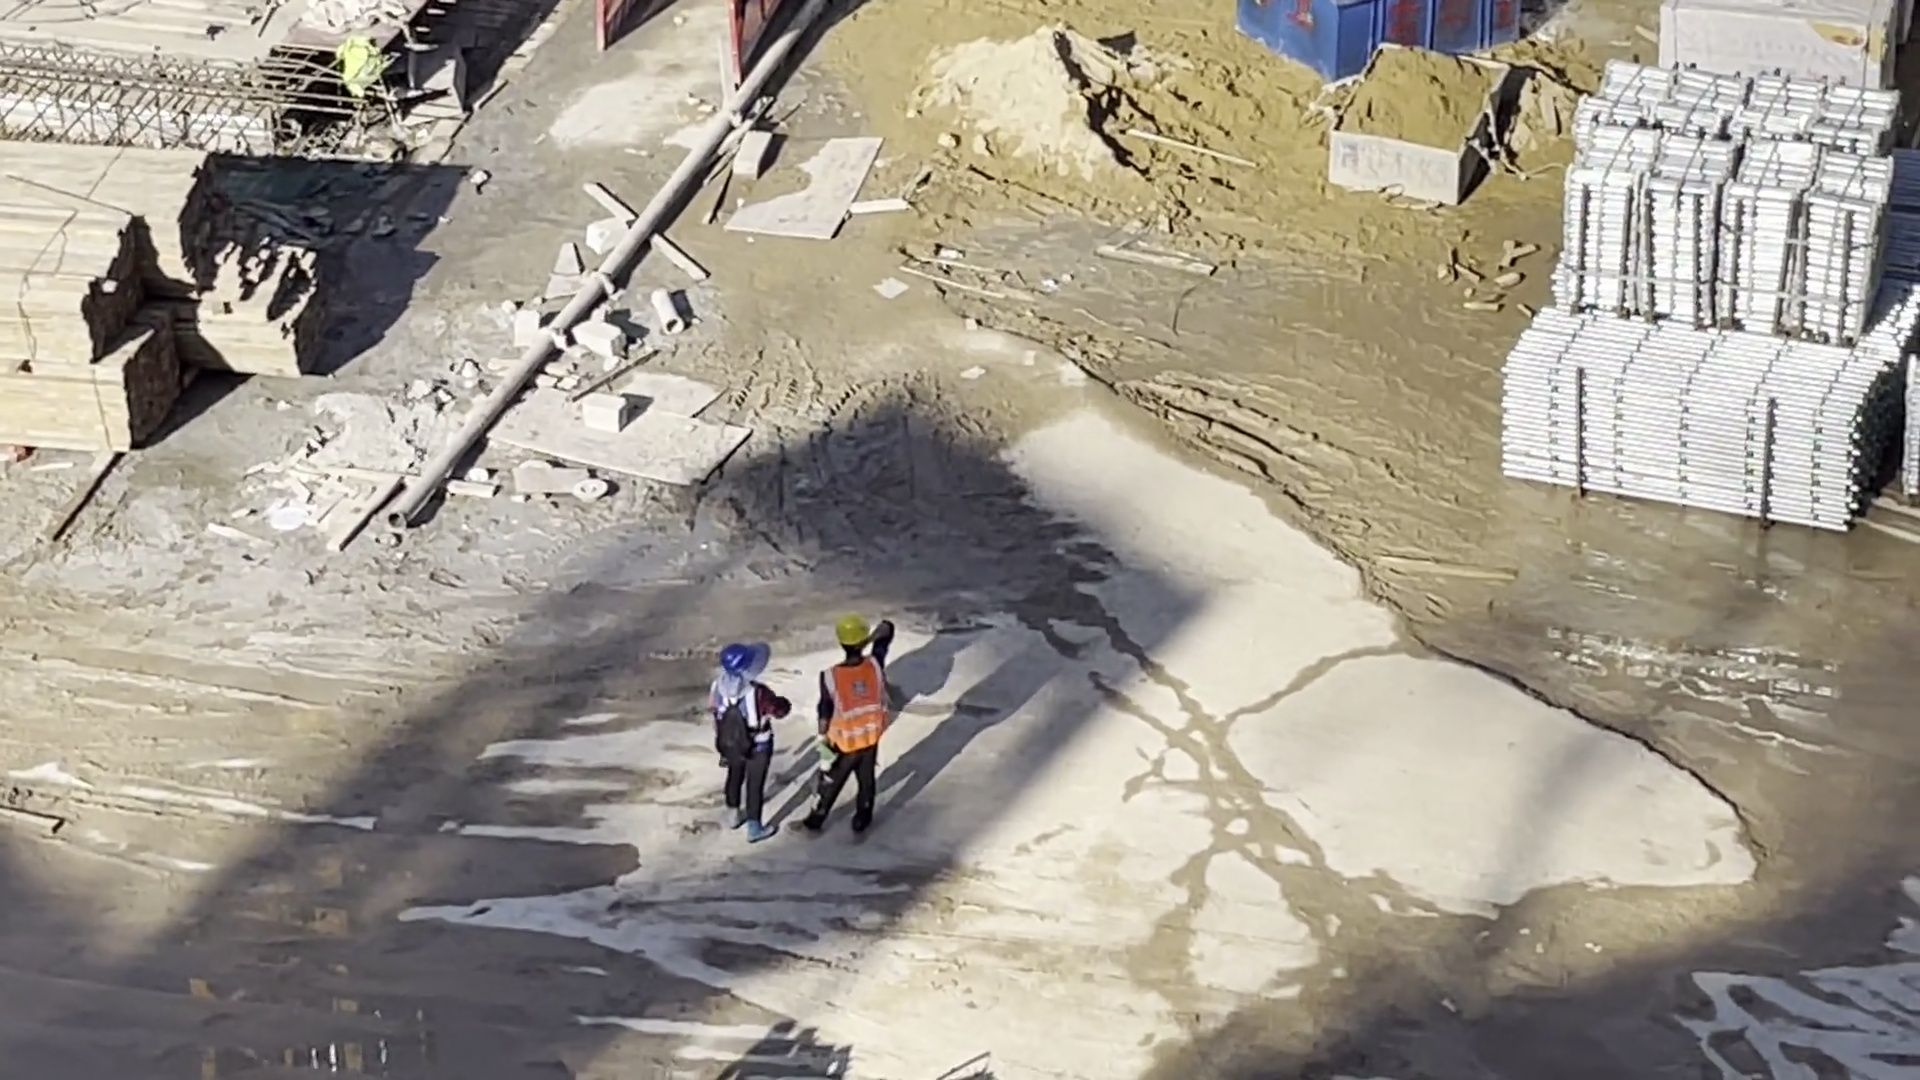fence: (598, 1, 777, 70)
helmet: (720, 644, 755, 675), (836, 617, 870, 645)
hopper: (1331, 46, 1512, 207), (1236, 1, 1524, 76)
person: (808, 623, 882, 838), (708, 642, 779, 842)
scaffold: (1573, 64, 1898, 346), (1505, 312, 1906, 526)
vest: (823, 661, 885, 747), (719, 676, 769, 737)
wood: (1, 148, 219, 443)
